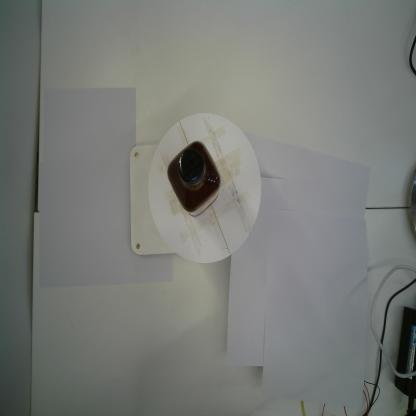Seasoner: (167, 140, 221, 218)
